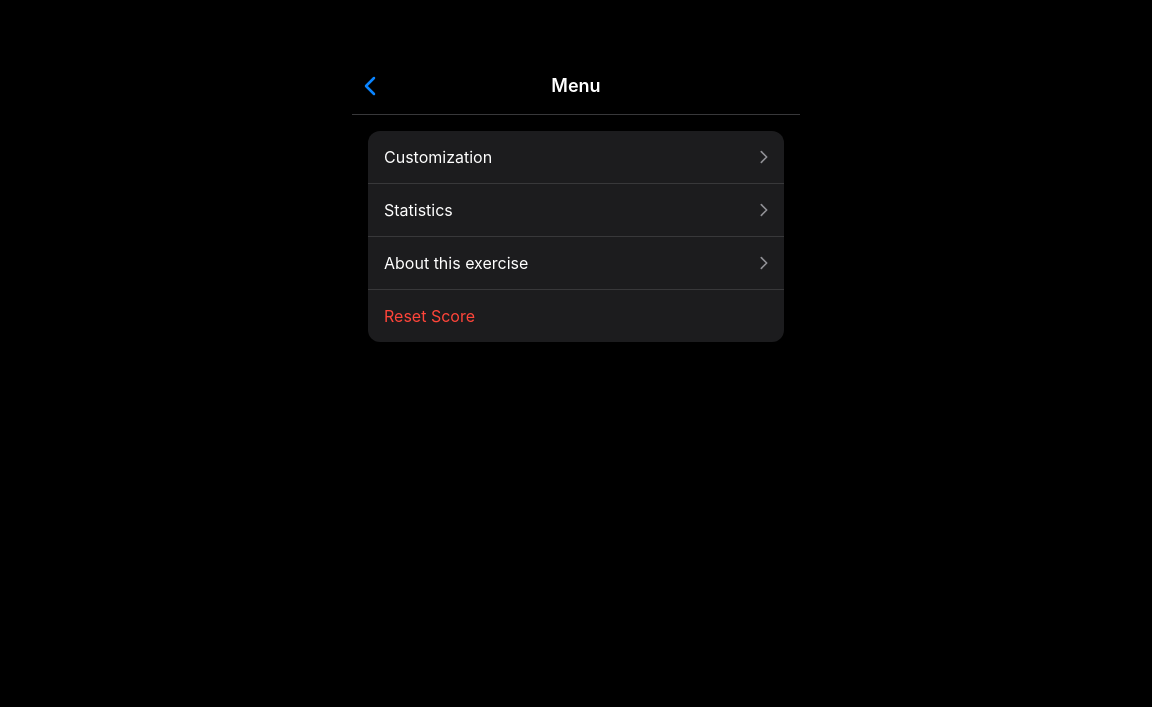
it: chords with no identifiable root are not offered › the chord exercise still offers all of them
This screenshot has width=1152, height=707.
Click the button "Customization" at (438, 157), box [368,131,784,183]
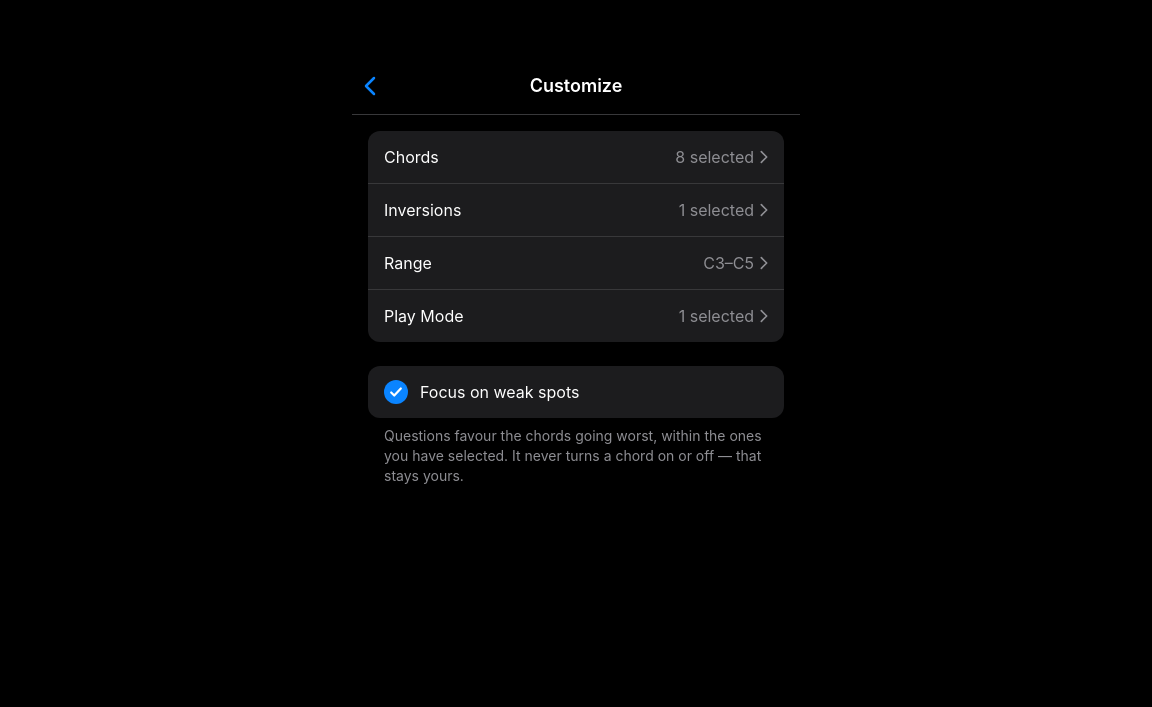
Click the button "Chords 8 selected" at (411, 157), box [368,131,784,183]
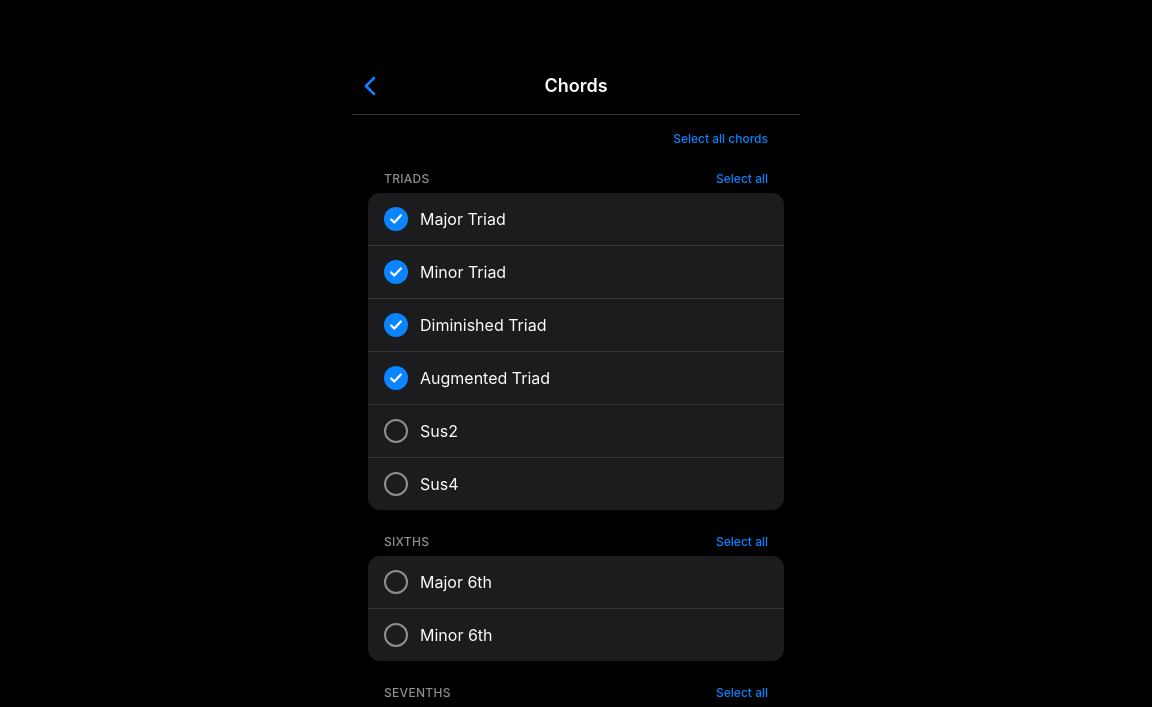
Now the checkbox labelled "Sus2" is shown, box [368,404,784,457]
